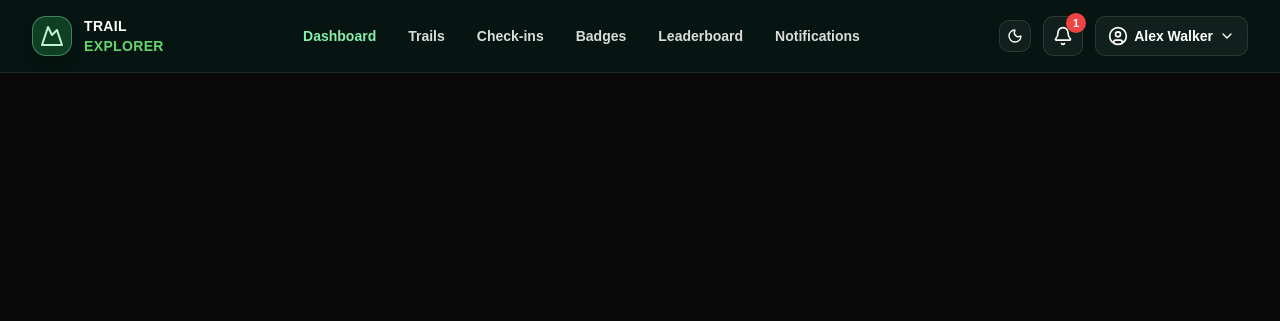
Test case: SiteHeader › opens a notification dropdown from the bell indicator
Click the button named "1 unread notifications": (1063, 36) [1043,16,1083,56]
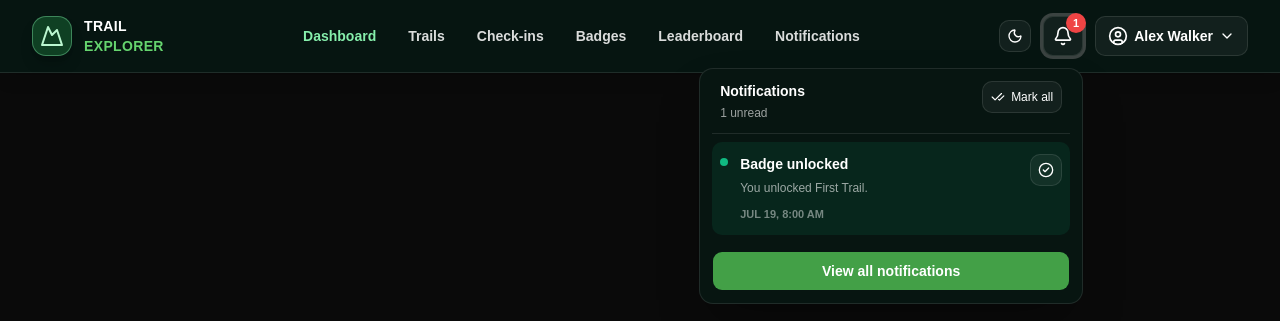
expect the menu is shown: met, box [699,68,1083,304]
expect the text "Badge unlocked" is shown: met, box [740,156,848,172]
expect the text "You unlocked First Trail." is shown: met, box [740,181,868,195]
